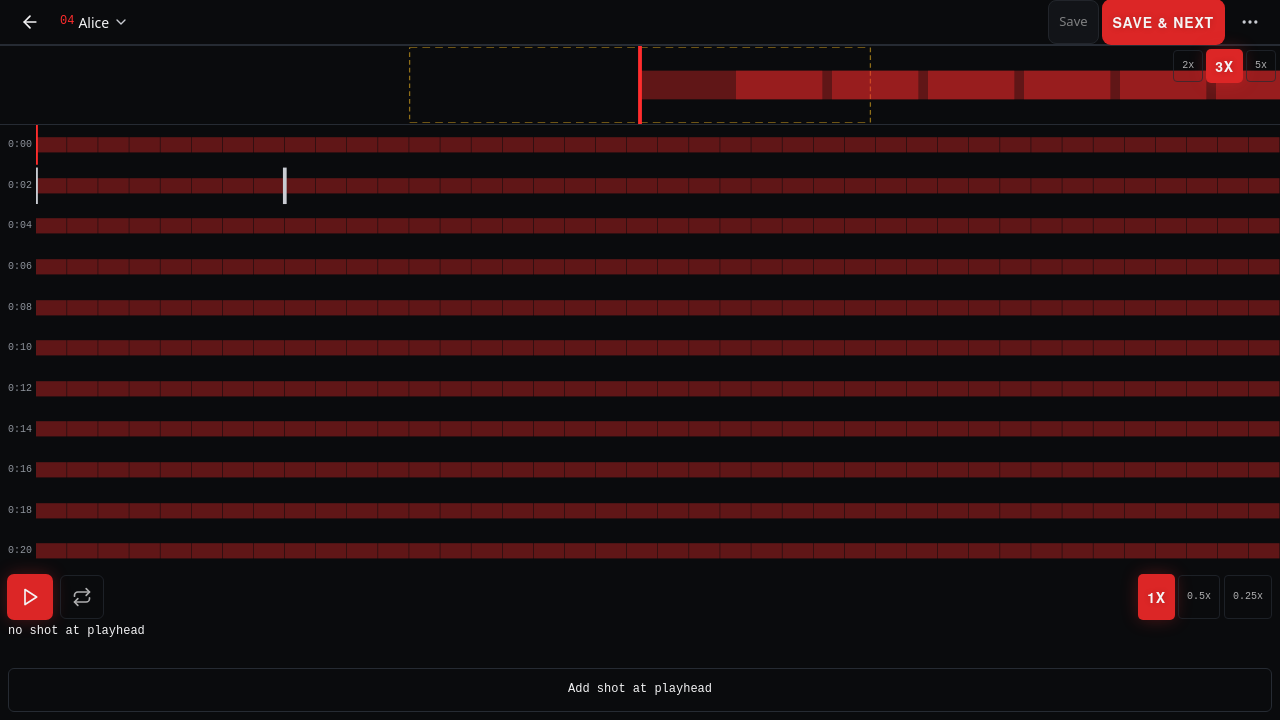
MobileAudit navigation › after the shooter's last stage it opens the next shooter's first stage
What coordinates should you click on to do the following:
click the button "Save & next"
I would click on:
 (1163, 22)
Its box is [1103,0,1224,44].
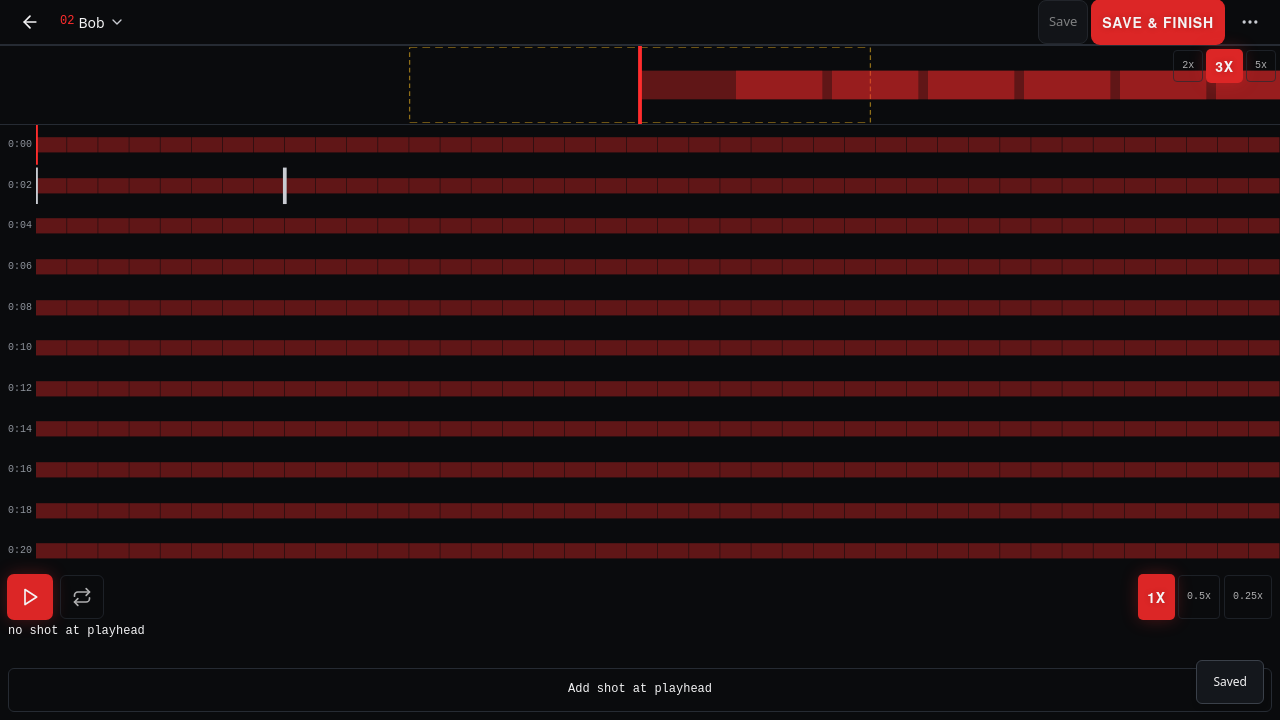
Expected: the text with test id "where" reads "/match/m1/audit/bob/2", [0,1,178,23]
